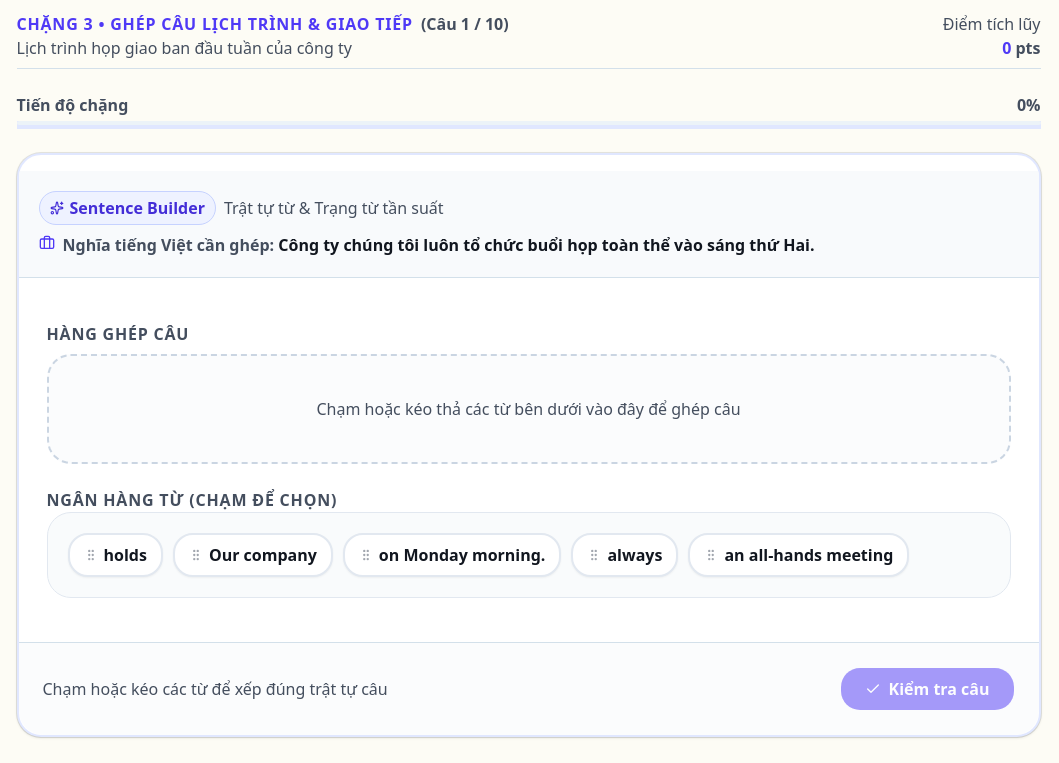
Test case: SentenceBuilderStage (Stage 3) › resets all placed tokens back to the bank when clicking 'Đặt lại câu'
# Place 2 tokens
Click the button named "thêm \"our company\"" at coordinates (253, 555), box [173, 533, 333, 577]
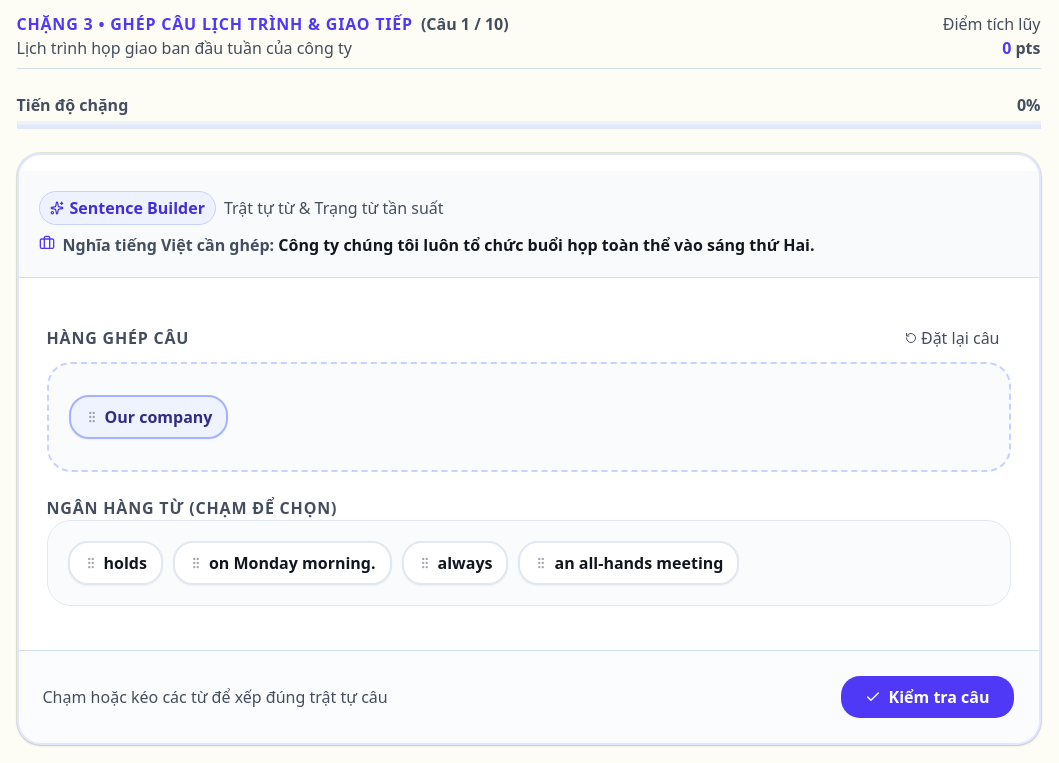
Click the button named "thêm \"always\"" at coordinates (455, 563), box [402, 541, 508, 585]
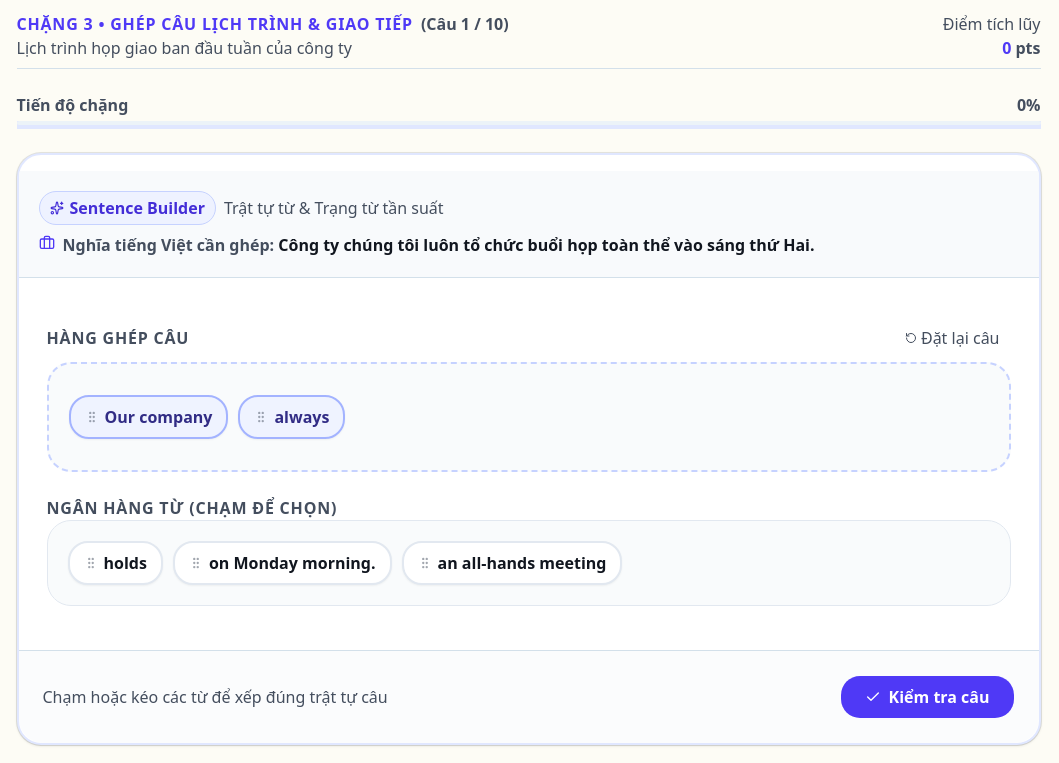
Click the button "Đặt lại câu" at coordinates (952, 338), box [894, 322, 1010, 354]
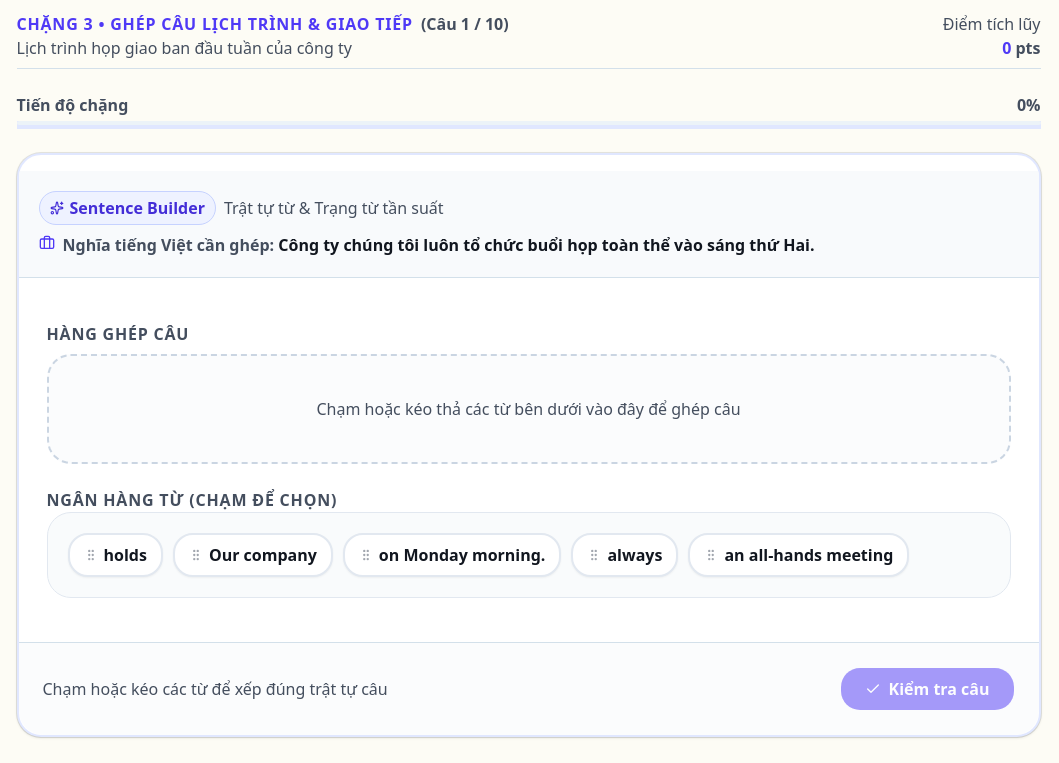
Now the text "Chạm hoặc kéo thả các từ bên dưới vào đây để ghép câu" is shown, box [316, 397, 741, 421]
